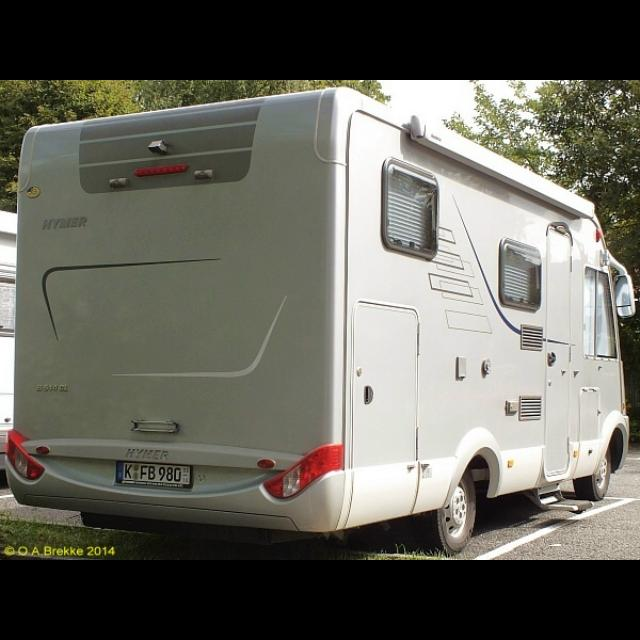d_license_plate: (116, 460, 190, 482)
